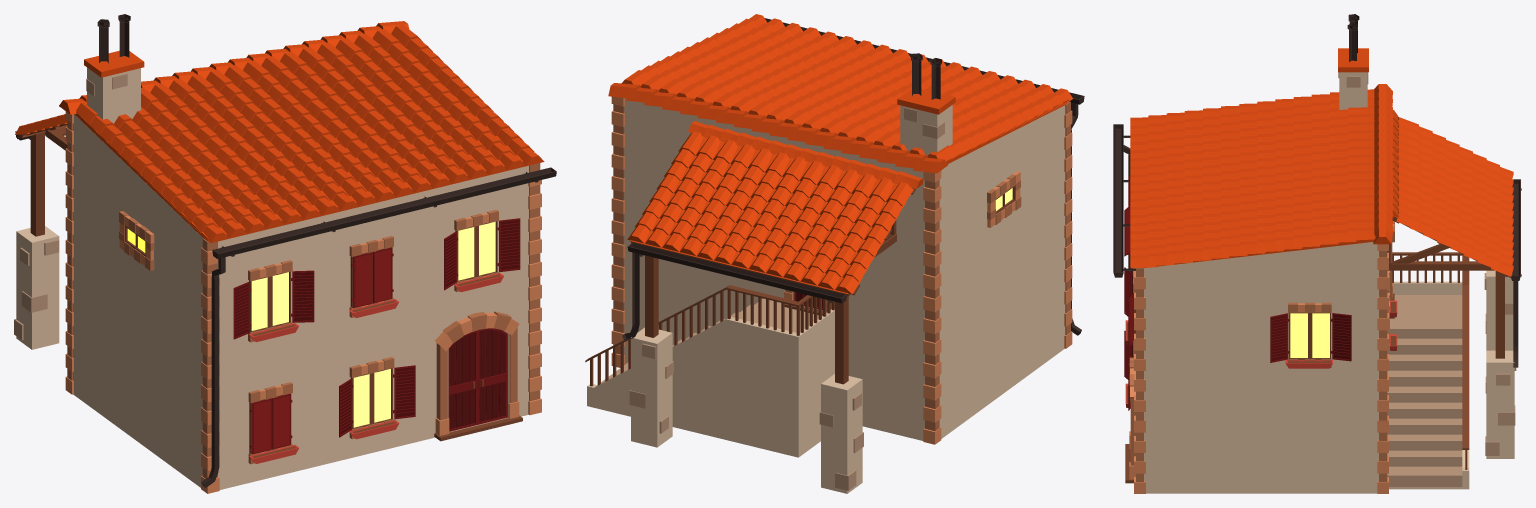
Rendered from village_pack_house_4.glb.
3 renders of one model, left to right at view 1: azimuth 30°, elevation 25°; view 2: azimuth 150°, elevation 25°; view 3: azimuth 270°, elevation 25°, orthographic. The views are drawn at different scales.
Visible parts, largest first — view 1: house 4_brick 1_0; view 2: house 4_brick 1_0; view 3: house 4_brick 1_0.
Part boxes in pixels (x1,y1,x2,y2): house 4_brick 1_0: (14, 14, 556, 493); house 4_brick 1_0: (585, 14, 1084, 493); house 4_brick 1_0: (1113, 14, 1521, 493).
Size of the model in its own units: 8.89 by 9.25 by 9.95.
